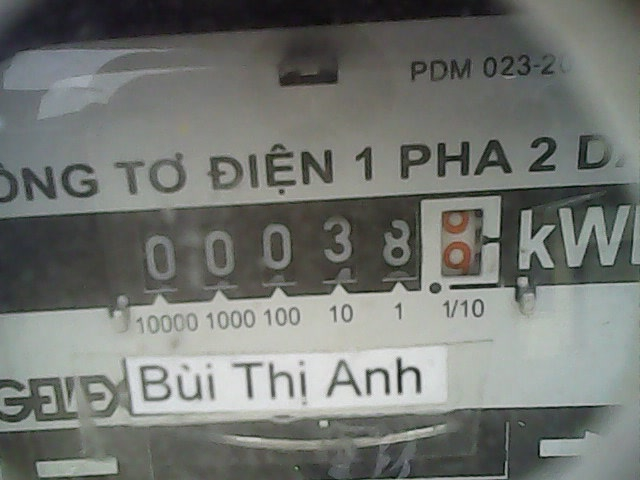phy_plate: (123, 186, 516, 308)
